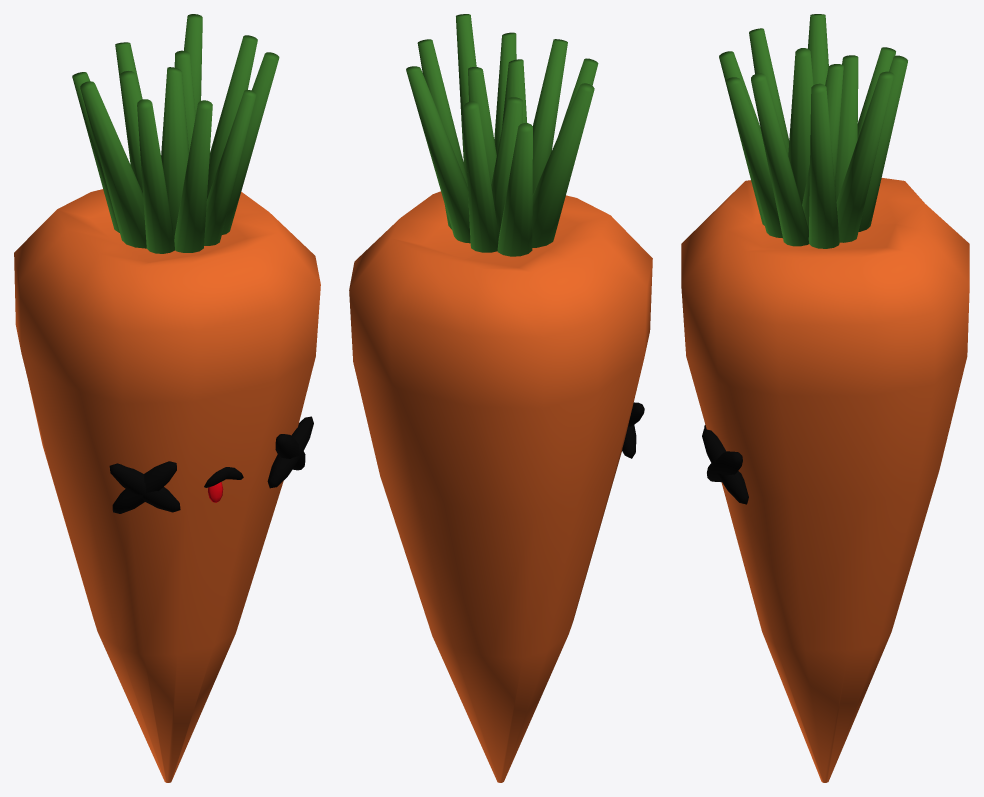
File: Carrot(dead).fbx
3 views of the same model, side by side, from view 1: azimuth 30°, elevation 25°; view 2: azimuth 150°, elevation 25°; view 3: azimuth 270°, elevation 25° (orthographic).
Parts seen in each view (by area): view 1: Carrot(dead); view 2: Carrot(dead); view 3: Carrot(dead).
Part boxes in pixels (<box>): Carrot(dead): <box>14,14,320,782</box>; Carrot(dead): <box>349,14,652,782</box>; Carrot(dead): <box>681,14,969,782</box>.
Bounding box in the file's own units: 93.7 × 265 × 93.65.
